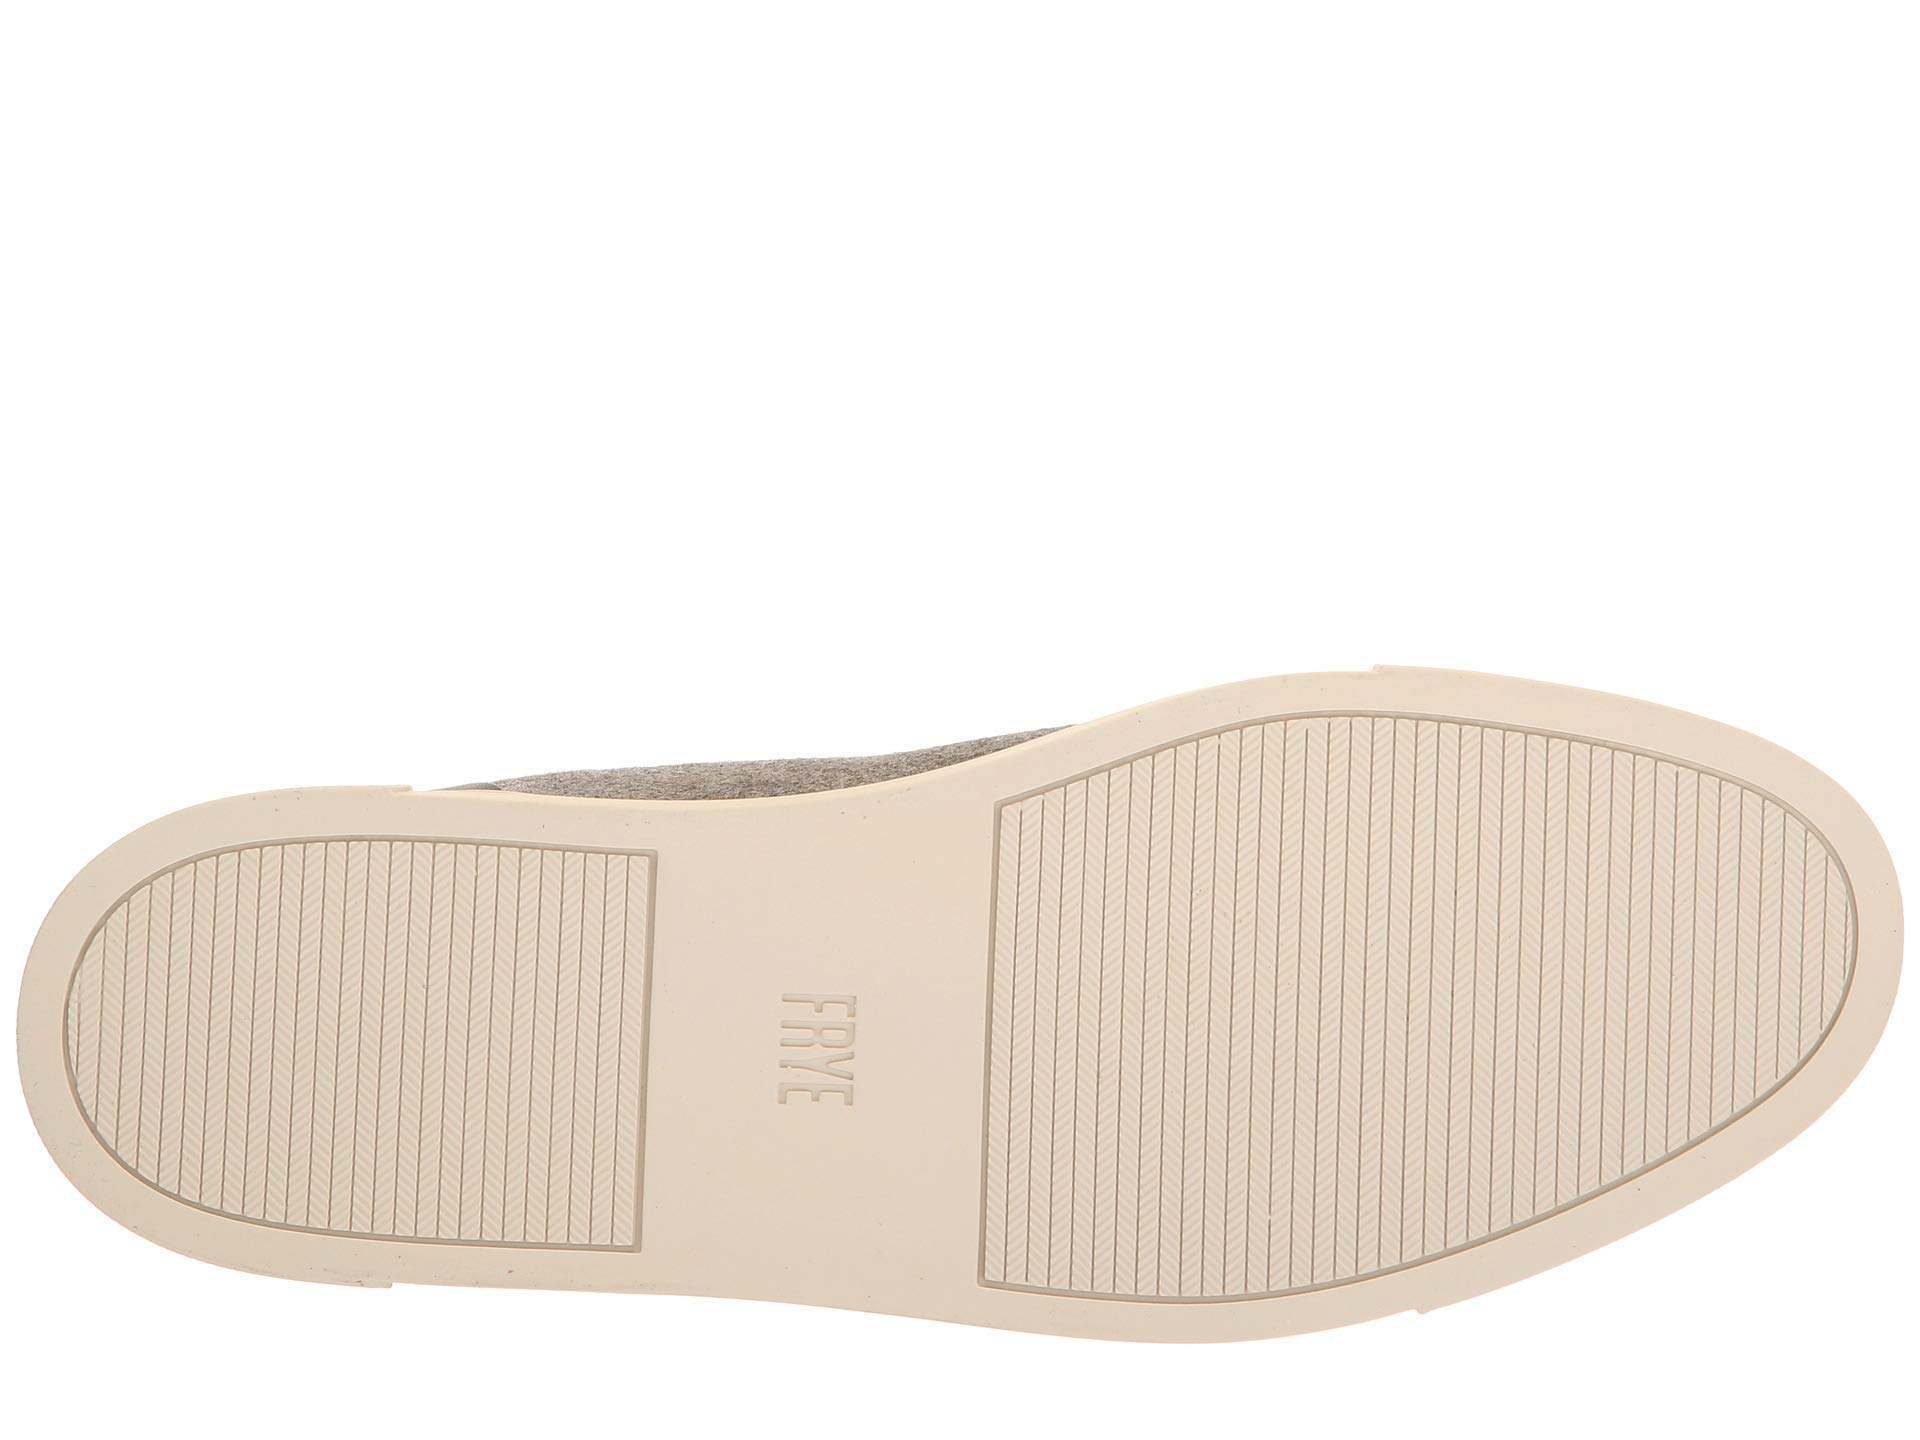line: (1020, 871, 1439, 1175), (183, 898, 473, 1206), (1476, 793, 1769, 1078)
text: (729, 932, 946, 1144)
